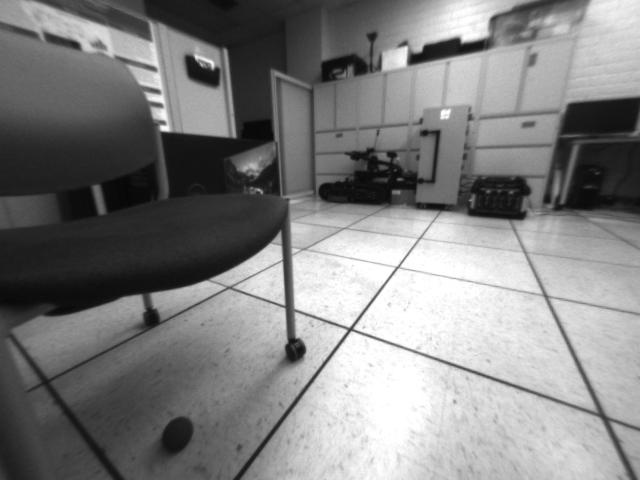dogtoy: (155, 406, 203, 460)
